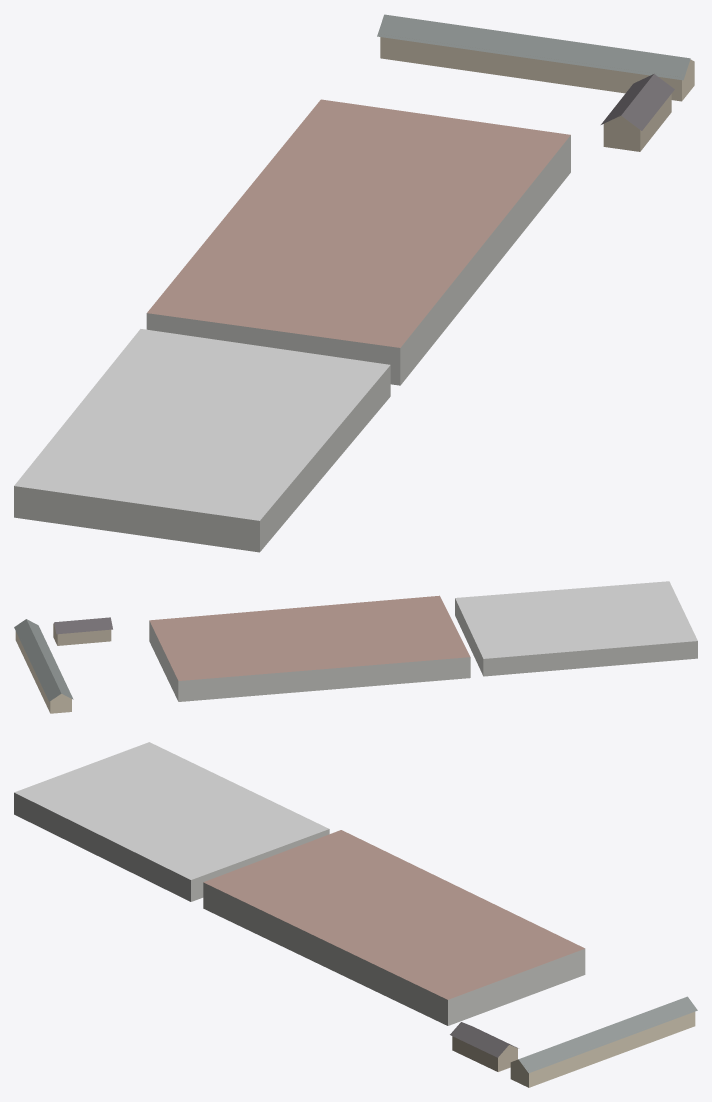
The picture shows the model from 3 angles, top to bottom: view 1: azimuth 30°, elevation 25°; view 2: azimuth 150°, elevation 25°; view 3: azimuth 270°, elevation 25°; orthographic projection. The views are drawn at different scales.
Visible parts, largest first — view 1: tuile; view 2: tuile; view 3: tuile.
Boxes of the visible parts, <box> form: tuile: <box>14,14,694,552</box>; tuile: <box>14,581,697,713</box>; tuile: <box>14,742,697,1087</box>.
Bounding box in the file's own units: 144 × 5.44 × 128.
